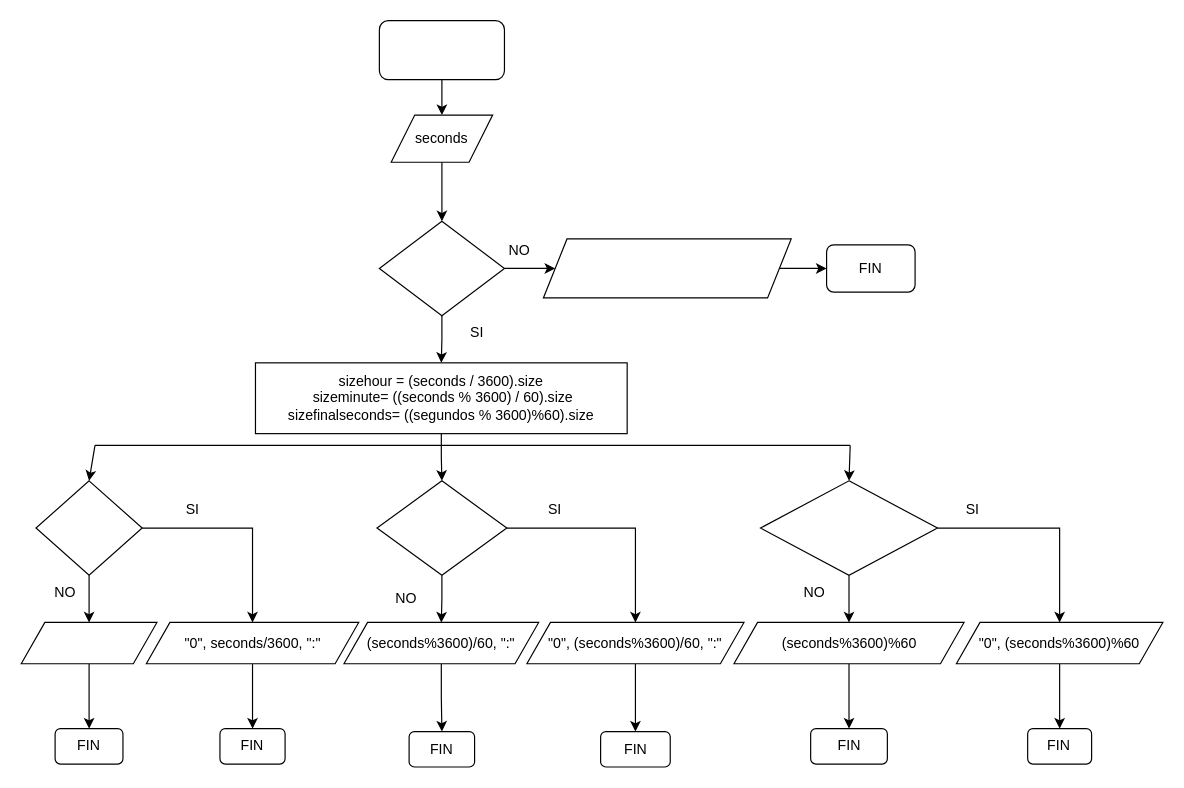
This 1184x788 diagram has some shape labels left out. The shapes that lost their labels are listed below. From the top down, each one's box as (x1, y1, x2, y2) in pixels, then its label:
(378, 19, 504, 80): START
(378, 220, 504, 316): seconds >= 0 ?
(542, 238, 791, 298): Error: Input seconds cannot be negative
(35, 480, 142, 575): sizehour < 2 ?
(376, 480, 507, 575): sizeminute < 2
(759, 480, 938, 575): sizefinalseconds <2?
(20, 621, 157, 664): seconds/3600 ":"
